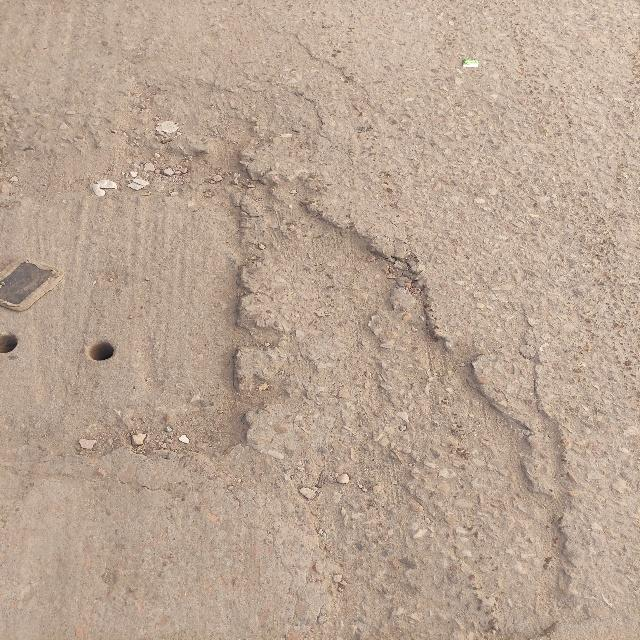Surface Erosion: (0, 73, 640, 608)
